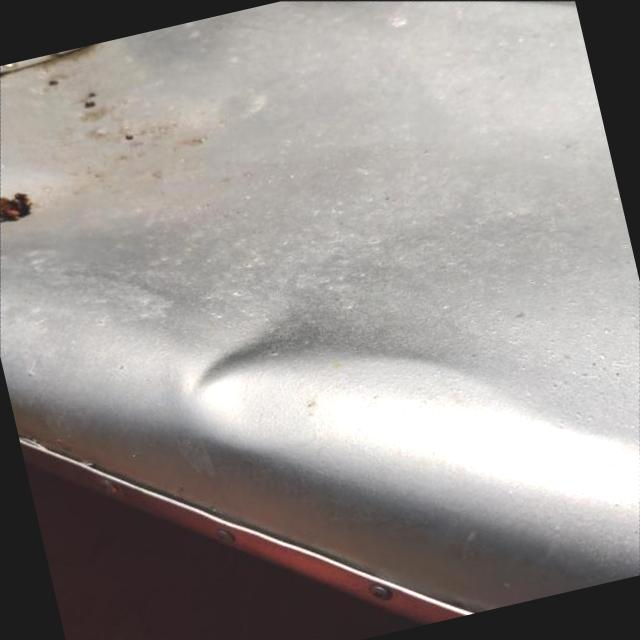dent: (156, 254, 370, 406)
